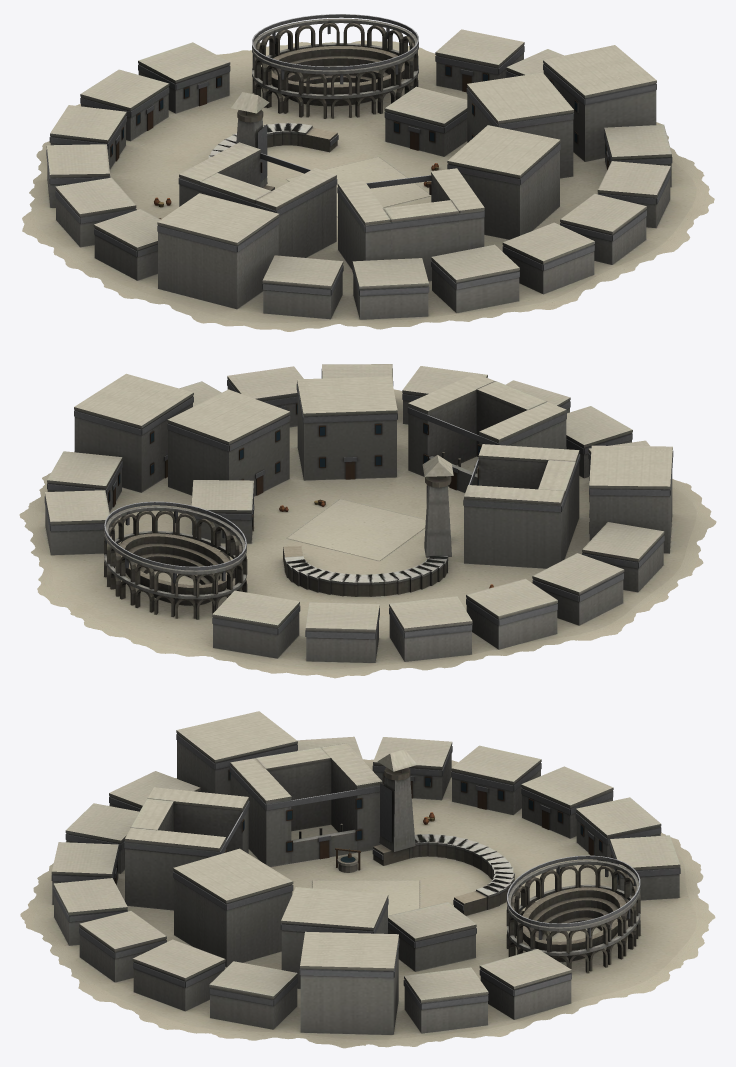
File: classical-town-big-b-maghreb-cba1deb3.glb
3 views of the same model, one above another, from view 1: azimuth 30°, elevation 25°; view 2: azimuth 150°, elevation 25°; view 3: azimuth 270°, elevation 25° (orthographic).
Visible parts, largest first — view 1: LOD0; view 2: LOD0; view 3: LOD0.
Boxes of the visible parts, x1,y1,x2,y2 form: LOD0: [22, 14, 714, 331]; LOD0: [19, 364, 716, 678]; LOD0: [20, 711, 715, 1048].
Size of what is drawn, in the model's own units: 7.91 by 1.35 by 7.98.
3 materials, 3 textured.
